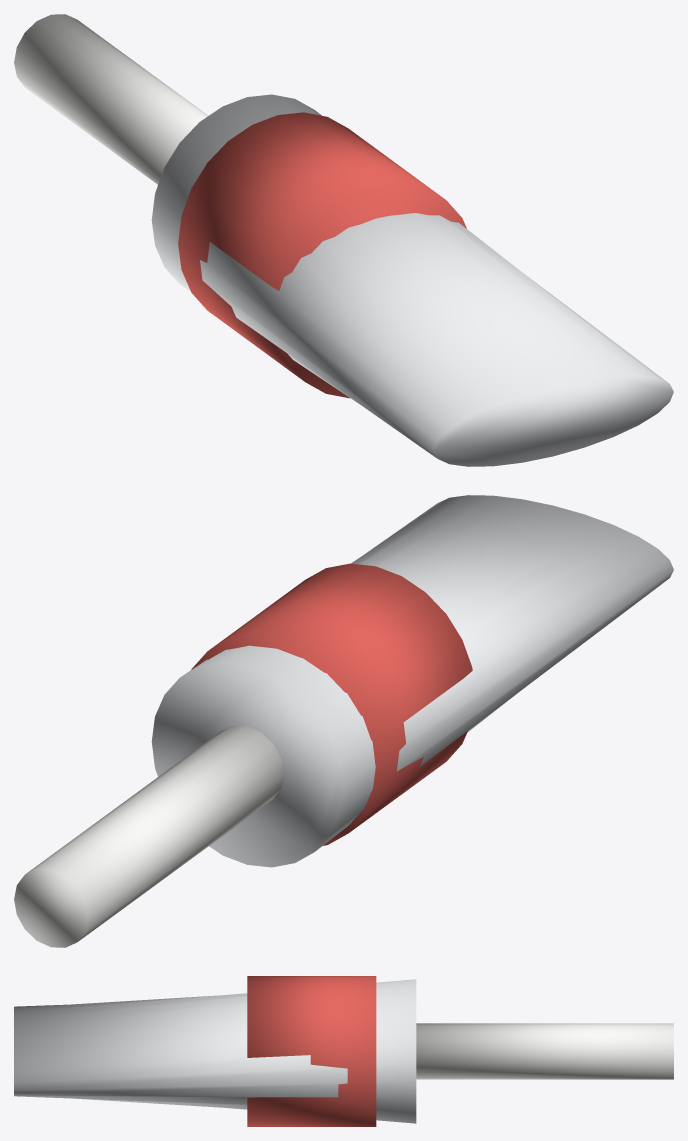
Rendered from promedol.glb.
3 views of the same model, one above another, from view 1: azimuth 30°, elevation 25°; view 2: azimuth 150°, elevation 25°; view 3: azimuth 270°, elevation 25° (orthographic). The views are drawn at different scales.
Visible parts, largest first — view 1: Promedol; view 2: Promedol; view 3: Promedol.
Boxes of the visible parts, x1,y1,x2,y2 form: Promedol: (14, 14, 673, 466); Promedol: (14, 495, 673, 947); Promedol: (14, 976, 673, 1126).
Bounding box in the file's own units: 0.0227 × 0.0188 × 0.082.
